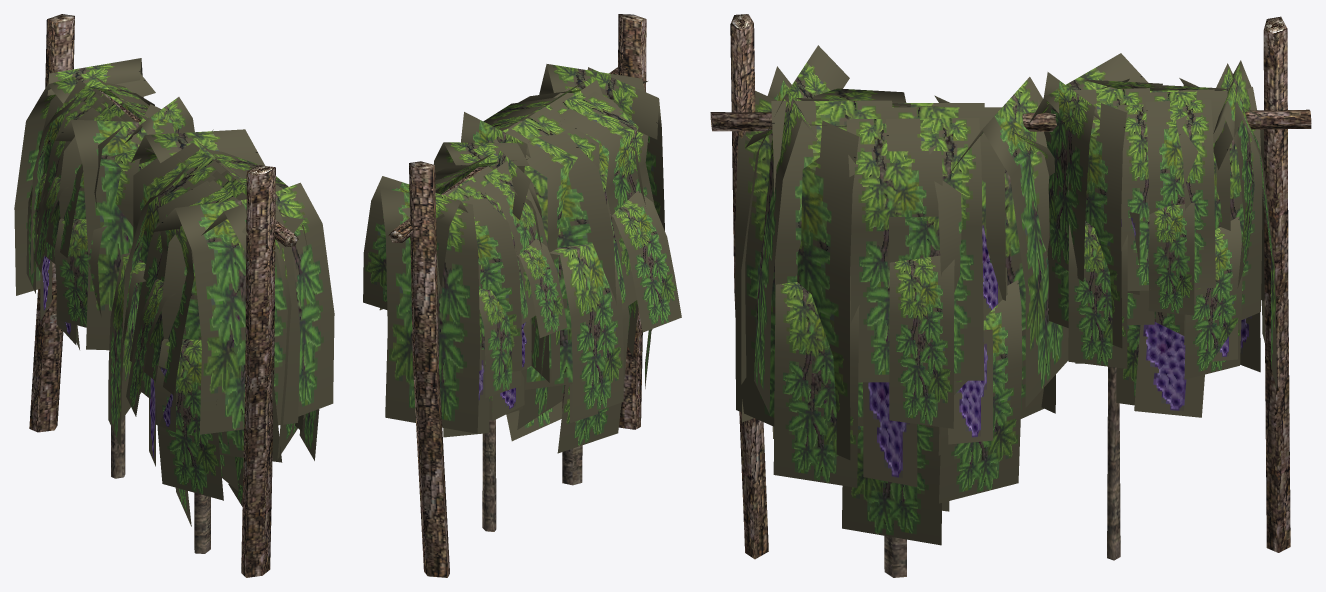
Rendered from flora_fruit_grapes.glb.
3 renders of one model, left to right at view 1: azimuth 30°, elevation 25°; view 2: azimuth 150°, elevation 25°; view 3: azimuth 270°, elevation 25°, orthographic. The views are drawn at different scales.
Visible parts, largest first — view 1: flora_fruit_grapes_part0; view 2: flora_fruit_grapes_part0; view 3: flora_fruit_grapes_part0.
Boxes of the visible parts, x1,y1,x2,y2 form: flora_fruit_grapes_part0: (14,14,334,577); flora_fruit_grapes_part0: (363,14,681,577); flora_fruit_grapes_part0: (710,14,1311,577).
Bounding box in the file's own units: 2.42 × 4.8 × 4.74.
Materials: 1 (1 with a texture image).
